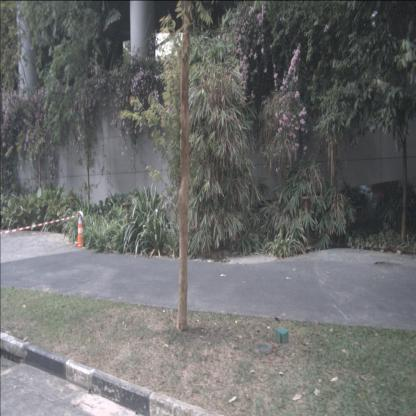cone: (74, 212, 85, 247)
